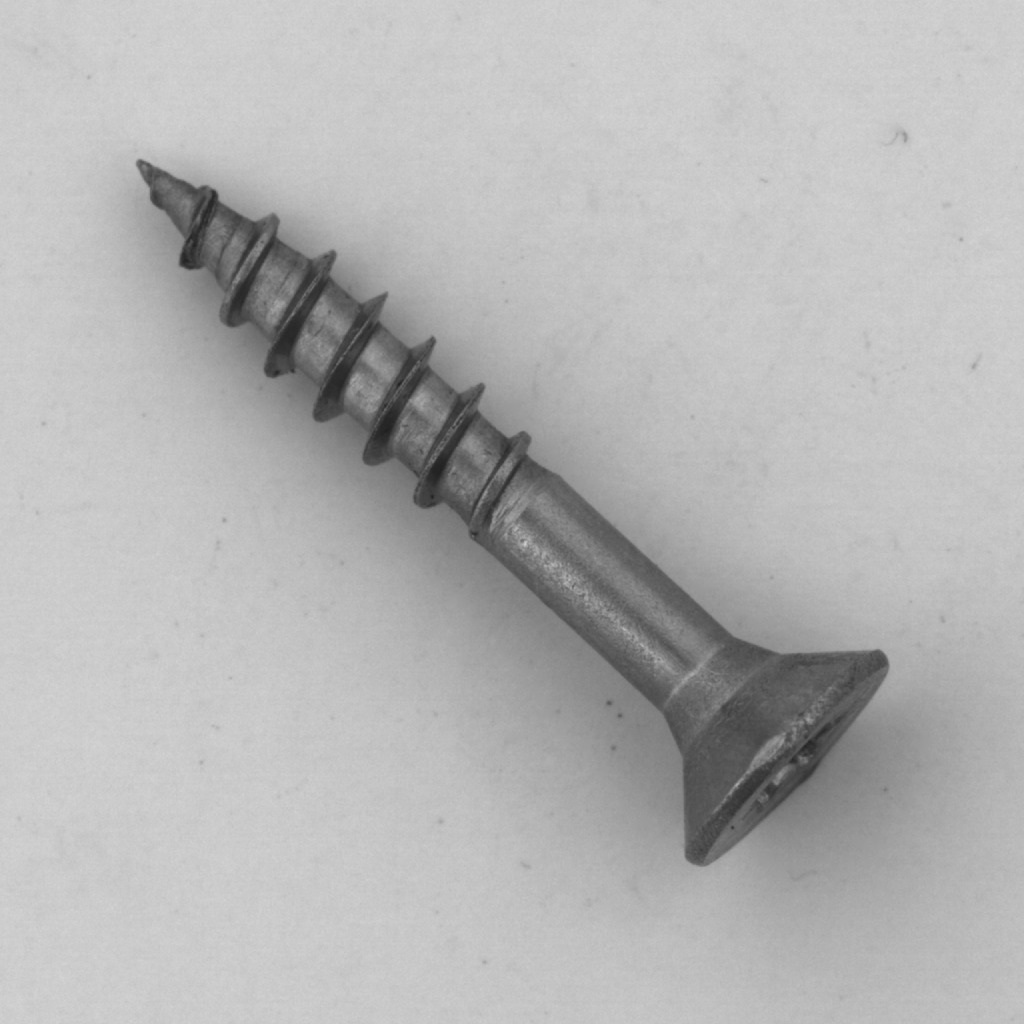good: (107, 130, 920, 894)
